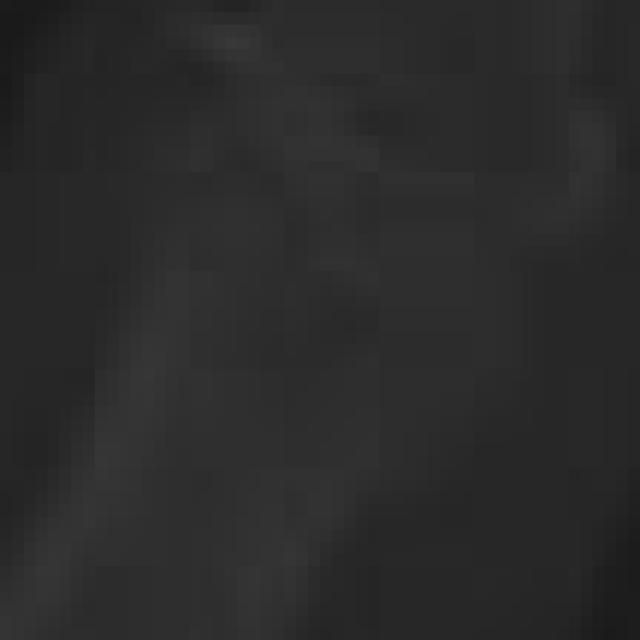fracture: (12, 1, 640, 637)
